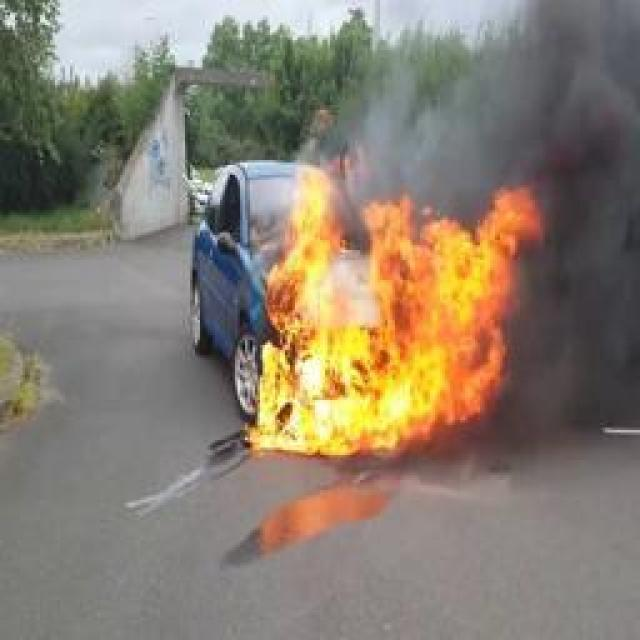Fire: (244, 145, 544, 460)
